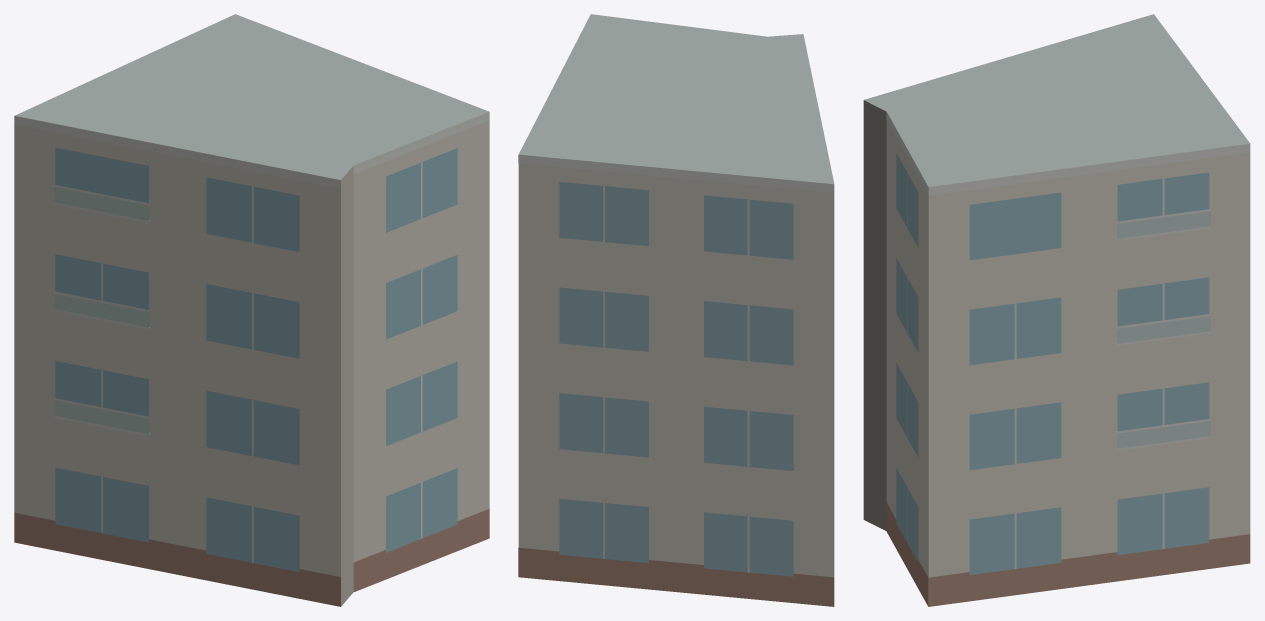
Rendered from survey-upis-33026585.glb.
3 views of the same model, side by side, from view 1: azimuth 30°, elevation 25°; view 2: azimuth 150°, elevation 25°; view 3: azimuth 270°, elevation 25° (orthographic).
Visible parts, largest first — view 1: survey-upis-33026585.tmp; view 2: survey-upis-33026585.tmp; view 3: survey-upis-33026585.tmp.
Part boxes in pixels (x1,y1,x2,y2): survey-upis-33026585.tmp: [14, 14, 489, 606]; survey-upis-33026585.tmp: [518, 14, 834, 606]; survey-upis-33026585.tmp: [863, 14, 1250, 606].
Size of the model in its own units: 10.54 by 11.9 by 9.95.
